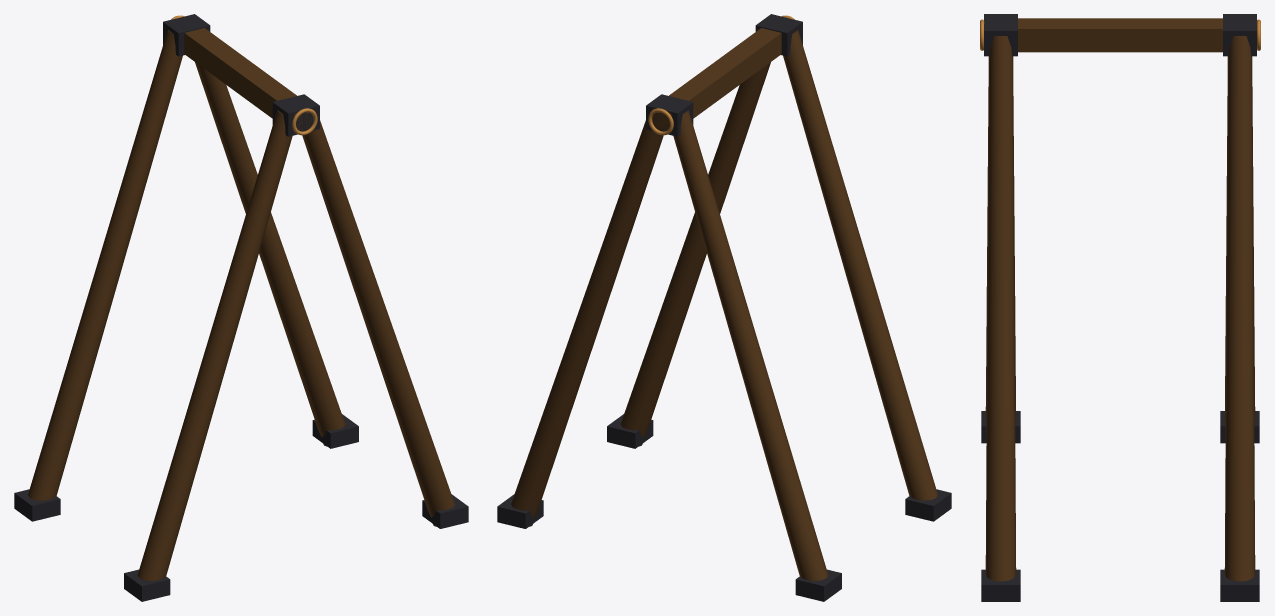
File: mia-pirate_frame.glb
The picture shows the model from 3 angles, left to right: view 1: azimuth 30°, elevation 25°; view 2: azimuth 150°, elevation 25°; view 3: azimuth 270°, elevation 25°; orthographic projection. The views are drawn at different scales.
Parts seen in each view (by area): view 1: Body_wood, Body_iron; view 2: Body_wood, Body_iron; view 3: Body_wood, Body_iron.
Part boxes in pixels (x1,y1,x2,y2): Body_wood: (28,28,454,580); Body_iron: (14,14,468,601); Body_wood: (511,28,937,580); Body_iron: (497,14,951,601); Body_wood: (985,18,1255,581); Body_iron: (981,14,1259,601).
Bounding box in the file's own units: 4.82 × 6.44 × 3.29.
